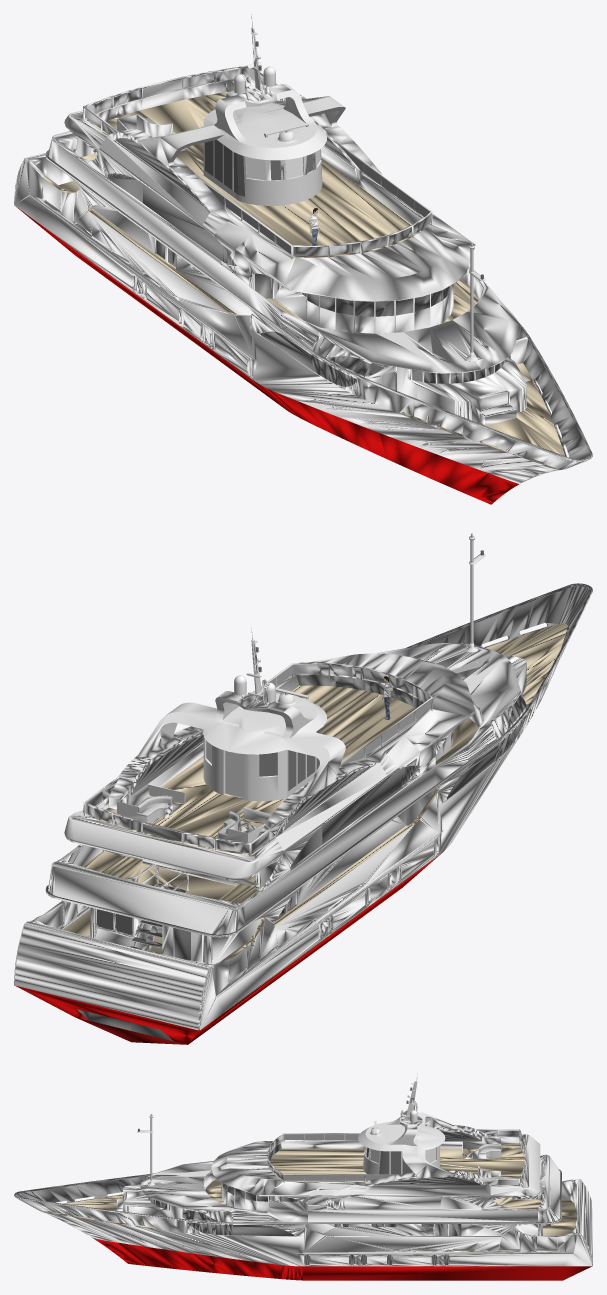
Rendered from ship.glb.
3 views of the same model, one above another, from view 1: azimuth 30°, elevation 25°; view 2: azimuth 150°, elevation 25°; view 3: azimuth 270°, elevation 25° (orthographic). The views are drawn at different scales.
Visible parts, largest first — view 1: Model; view 2: Model; view 3: Model.
Part boxes in pixels (x1,y1,x2,y2): Model: (14,14,592,504); Model: (14,533,592,1044); Model: (14,1073,592,1280).
Size of the model in its own units: 0.0811 by 0.1327 by 0.353.
